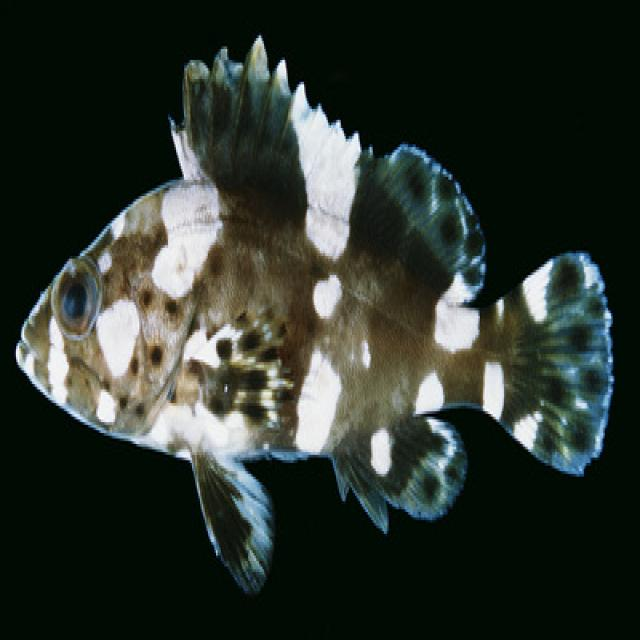ikan: (14, 33, 614, 596)
